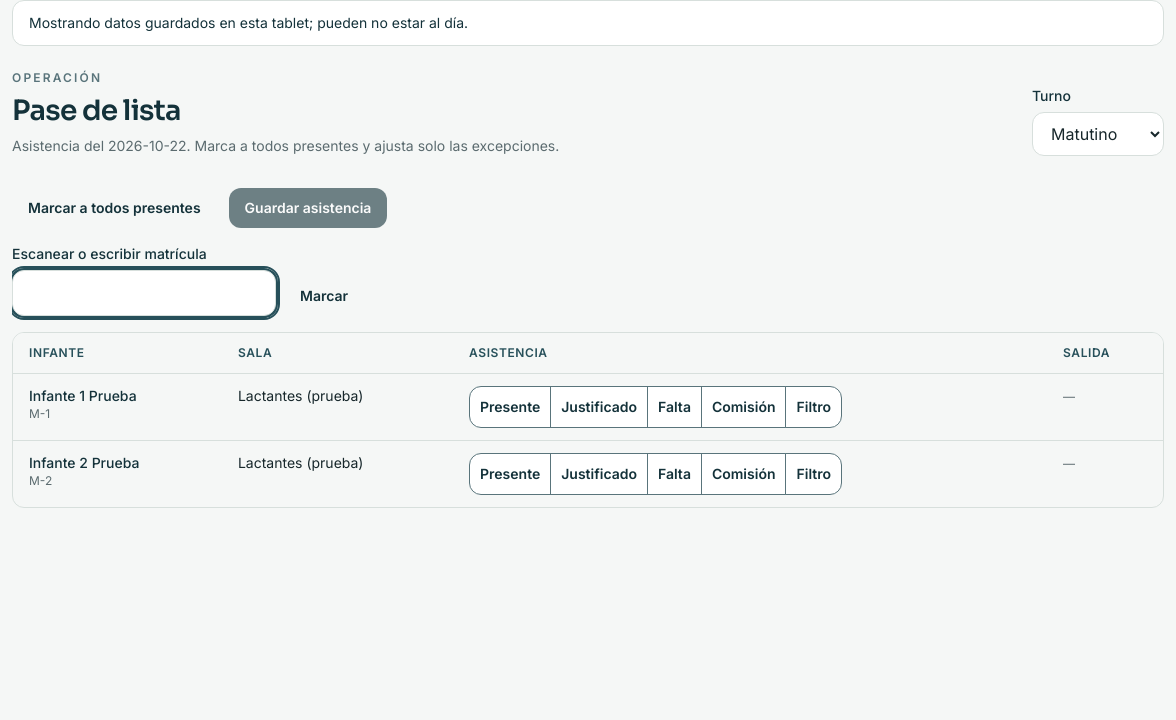
Test: abrir las pantallas del día sin conexión (RF-20) › con esa lista guardada se puede pasar lista sin conexión: queda en la tablet para enviarse sola
The width and height of the screenshot is (1176, 720).
Expected: the text "Infante 1 Prueba" is shown, [29,387,137,404]
Click the button "Marcar a todos presentes" at (114, 208), box [12,188,217,228]
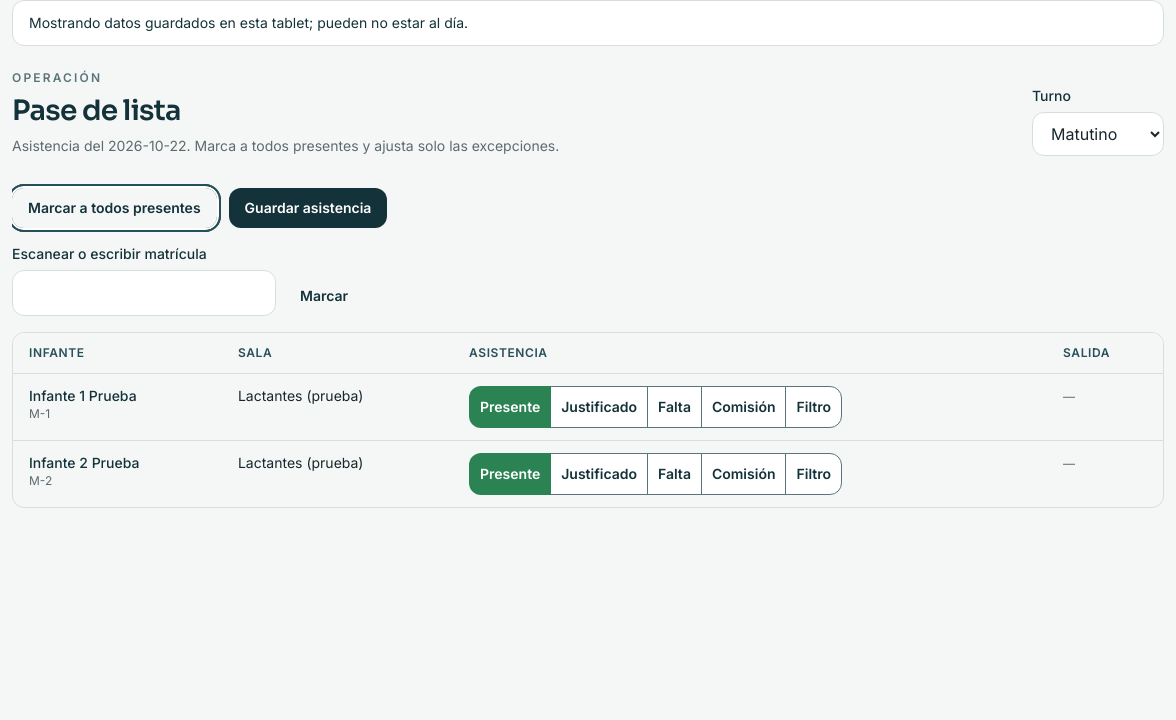
Click the button "Guardar asistencia" at (308, 208), box [229,188,387,228]
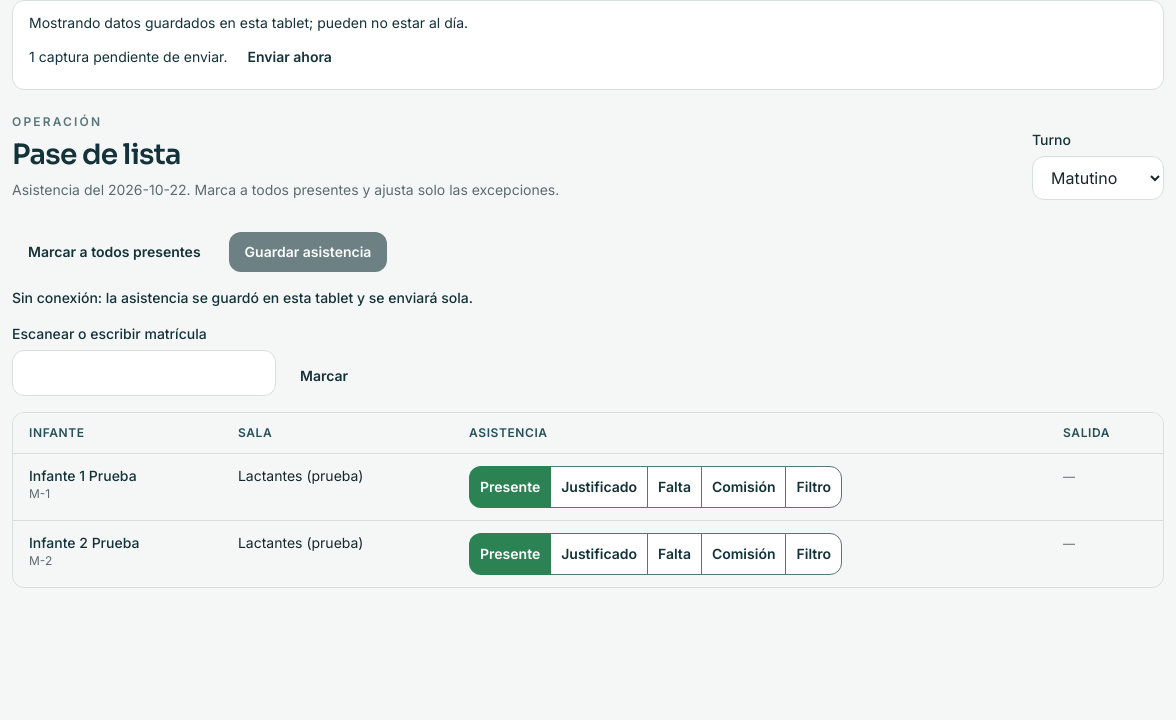
Expected: the text "Sin conexión: la asistencia se guardó en esta tablet y se enviará sola." is shown, [12,289,473,306]
